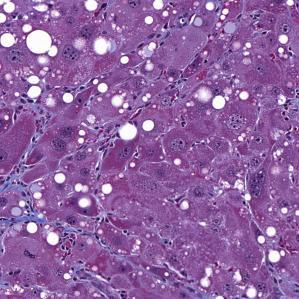fibrosis: (4, 172, 42, 227)
